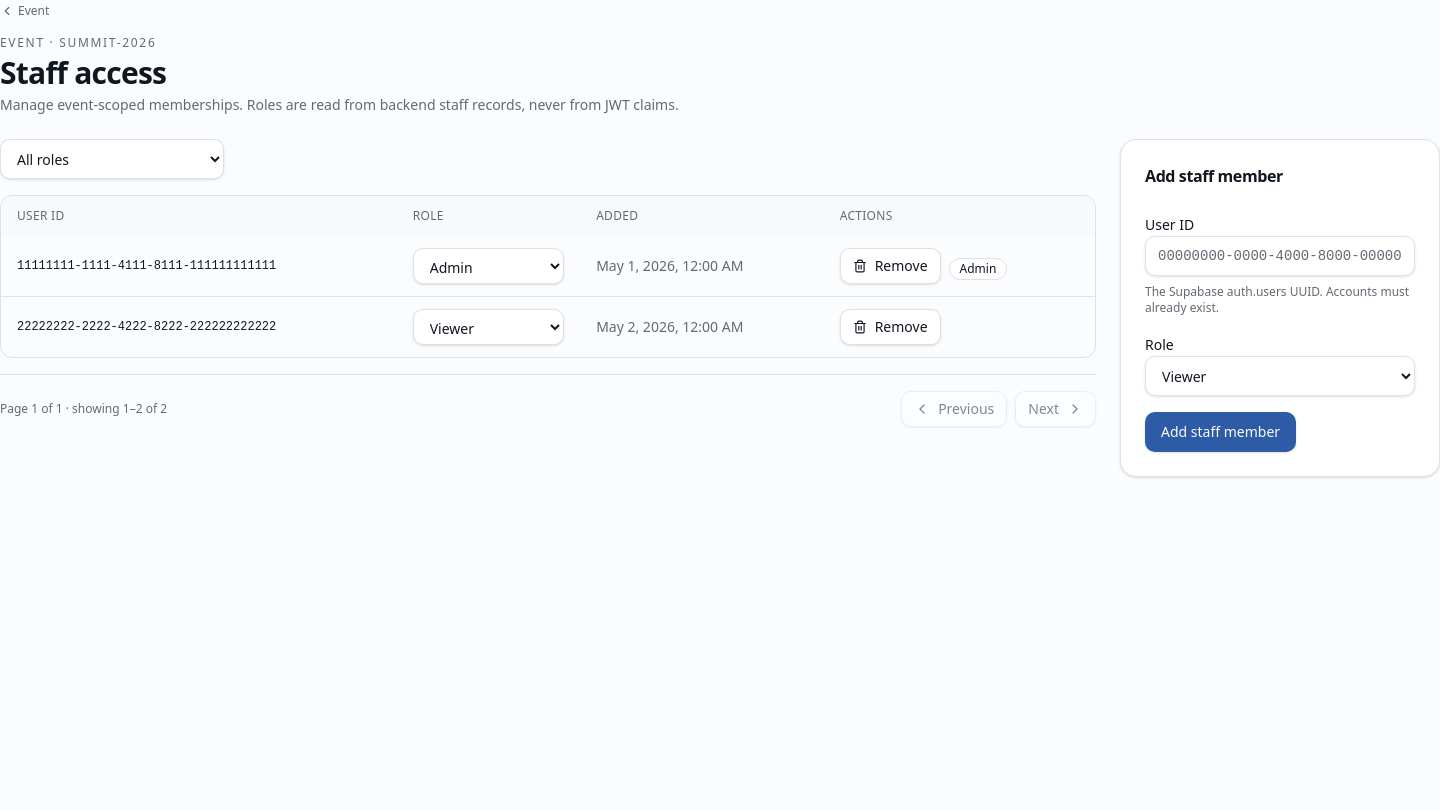
Test case: staff management › explains the final-admin safeguard on a 409 response
The image size is (1440, 810).
expect the text "11111111-1111-4111-8111-111111111111" is shown: met, box left=1, top=236, right=397, bottom=296
Click the button "Remove" next to "Admin".
click(890, 266)  # box left=840, top=248, right=941, bottom=284
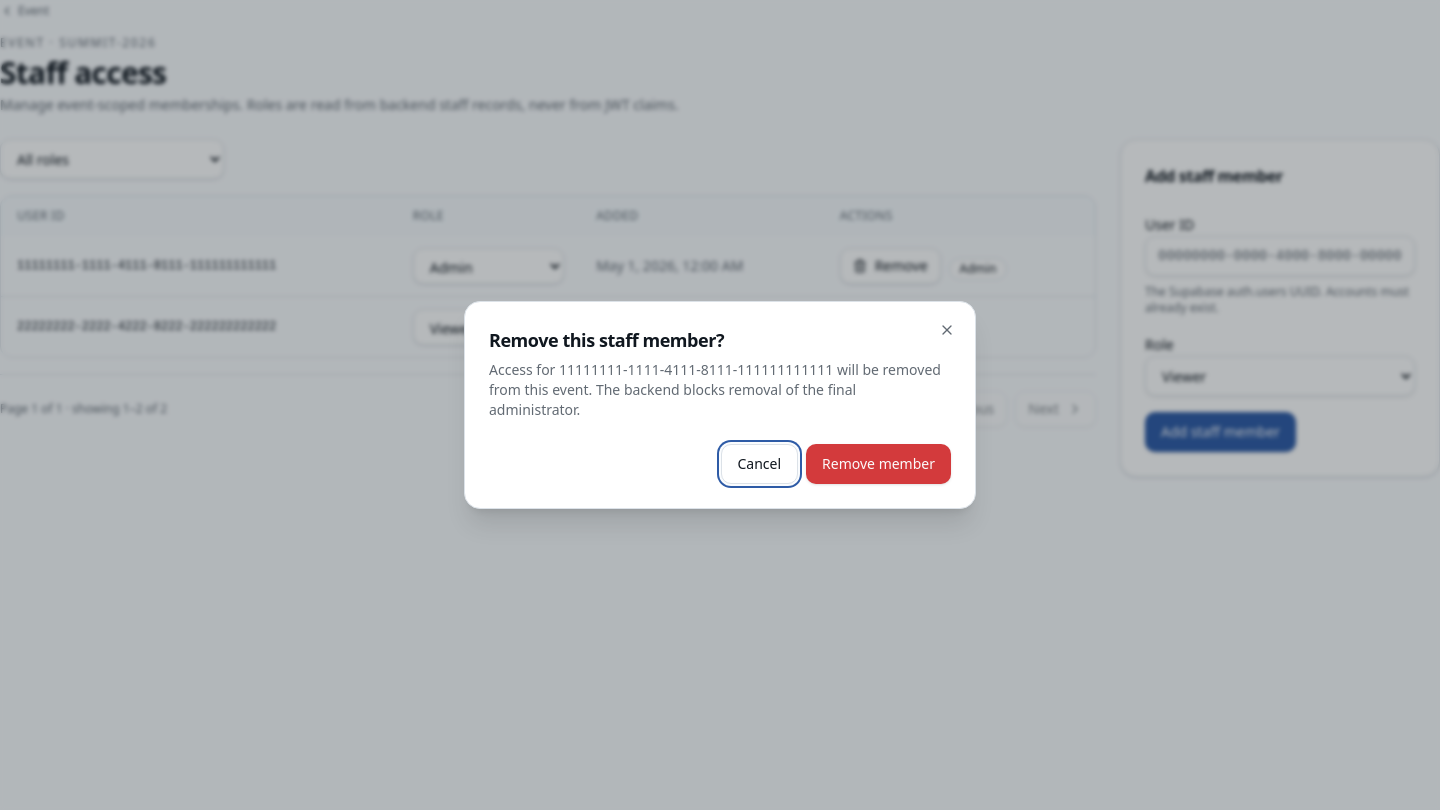
Click the button "Remove member".
click(879, 464)  # box left=806, top=444, right=951, bottom=484
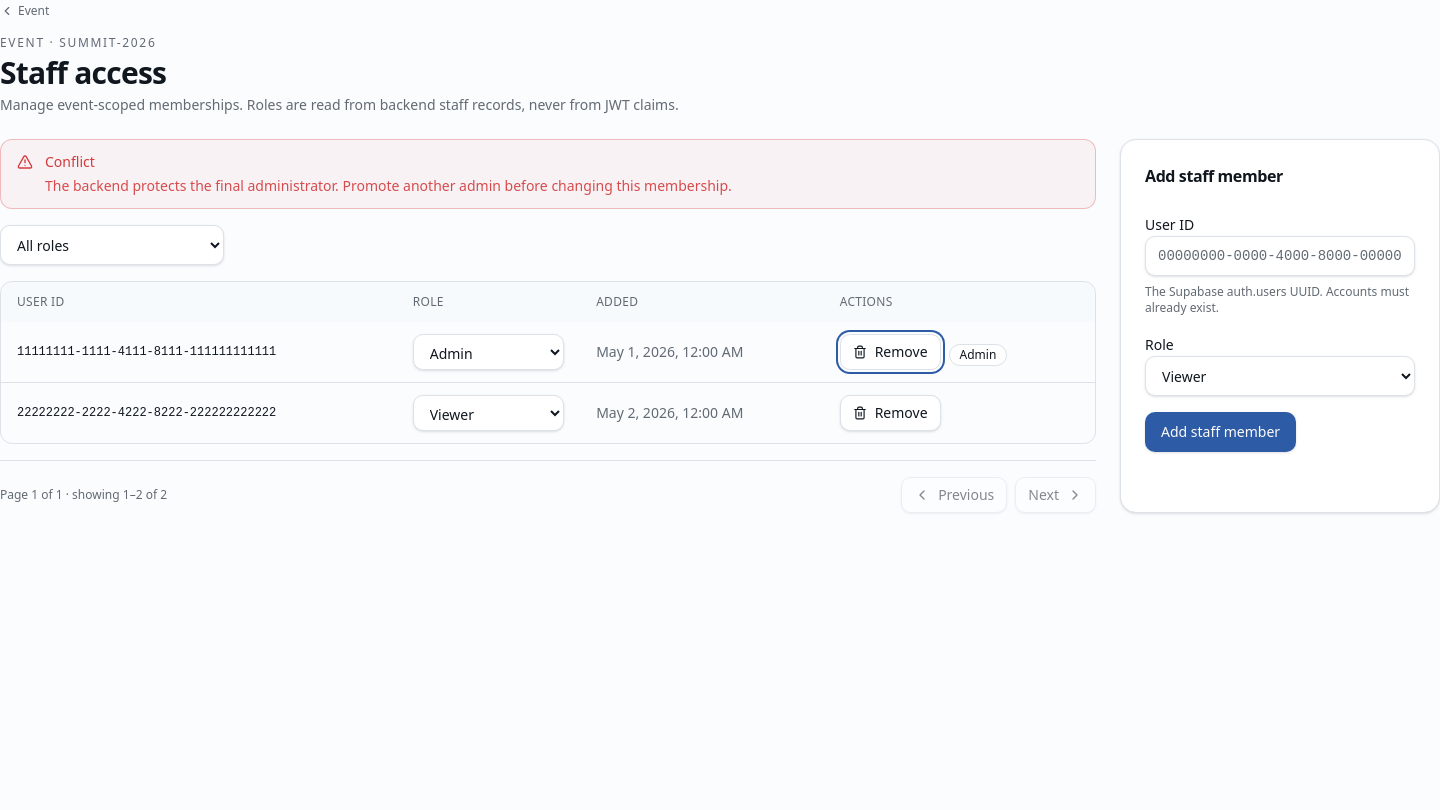
expect the text "protects the final administrator" is shown: met, box left=45, top=176, right=732, bottom=195
